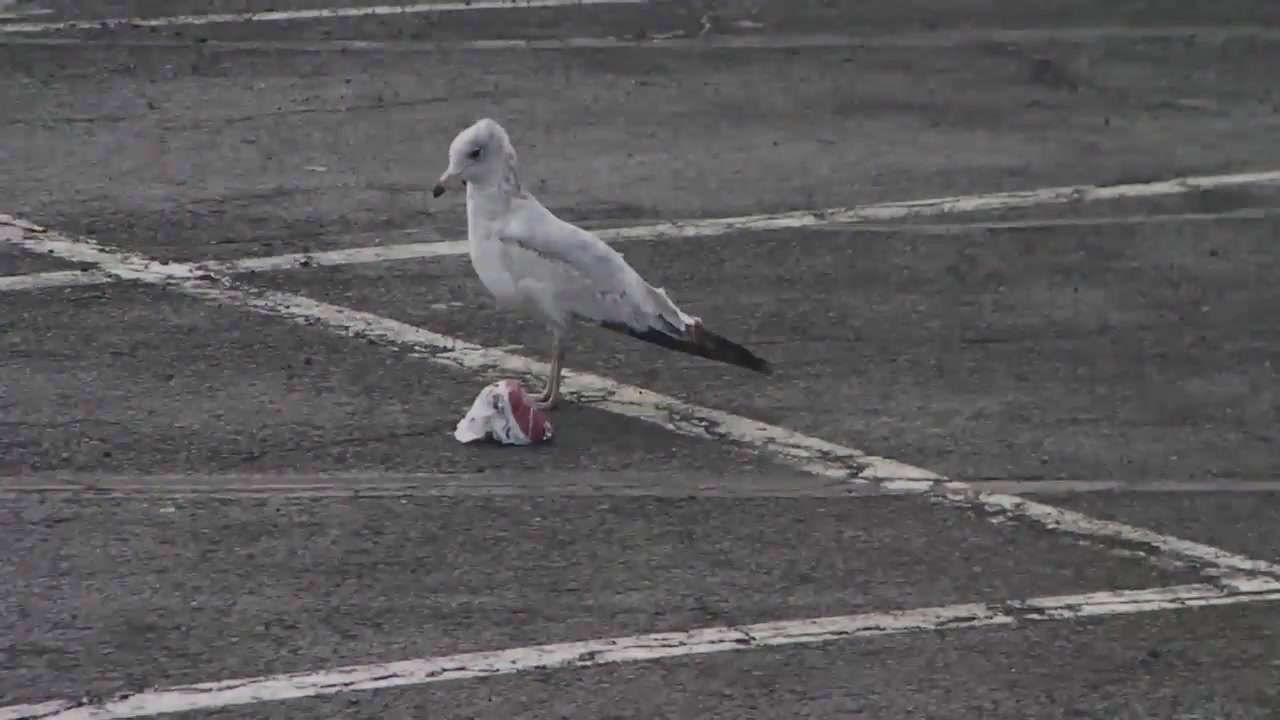bird: (432, 117, 779, 412)
